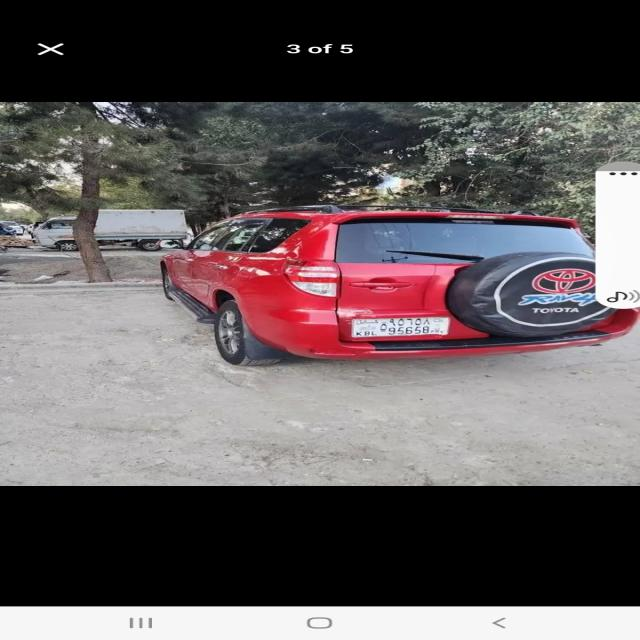Plate: (351, 317, 449, 338)
